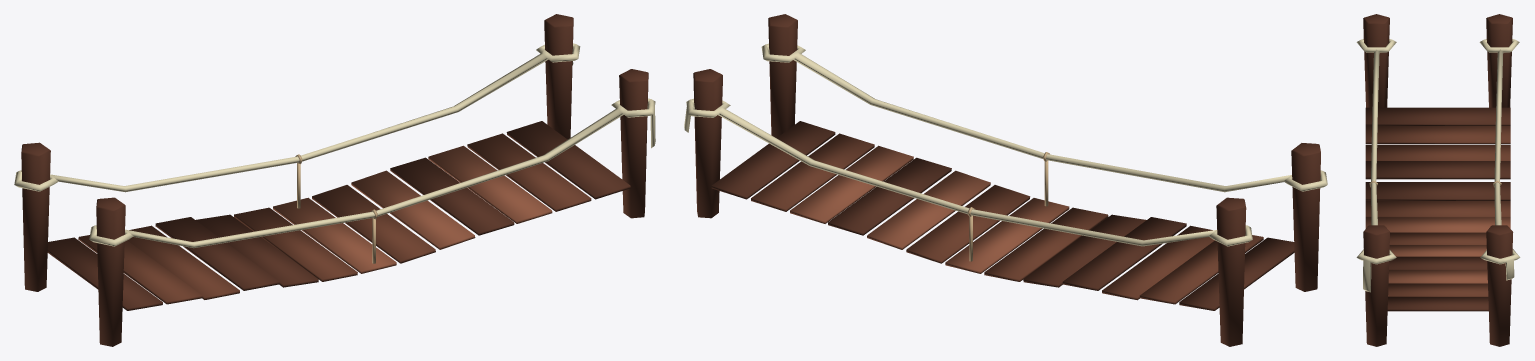
Rendered from Bridge_05.glb.
The picture shows the model from 3 angles, left to right: view 1: azimuth 30°, elevation 25°; view 2: azimuth 150°, elevation 25°; view 3: azimuth 270°, elevation 25°; orthographic projection. The views are drawn at different scales.
Visible parts, largest first — view 1: Bridge_05; view 2: Bridge_05; view 3: Bridge_05.
Boxes of the visible parts, bbox=[...] form: Bridge_05: bbox=[14, 14, 655, 346]; Bridge_05: bbox=[684, 14, 1327, 346]; Bridge_05: bbox=[1356, 14, 1520, 346].
Size of what is drawn, in the model's own units: 5.56 by 1.3 by 1.7.
1 material, 1 textured.
